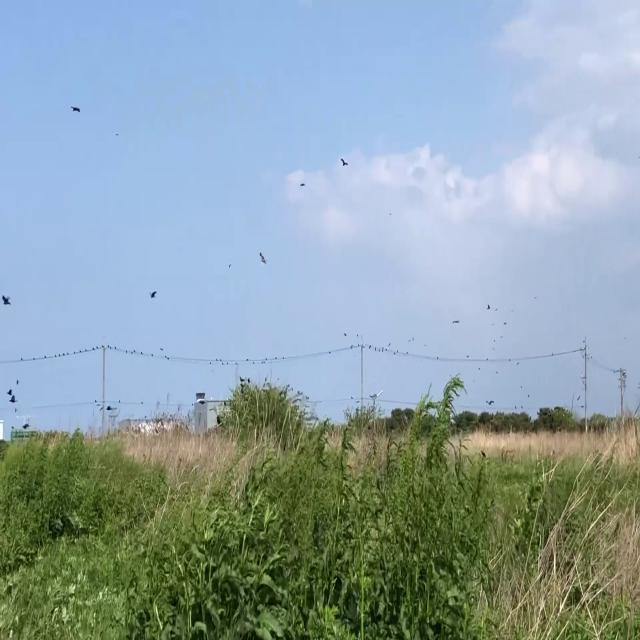bird: (70, 99, 81, 119), (1, 288, 11, 309), (259, 247, 266, 269), (341, 152, 348, 172), (150, 283, 157, 302), (486, 300, 491, 311)
